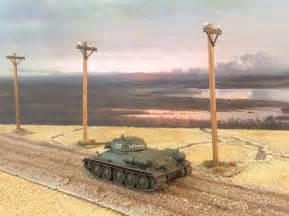pole: (195, 18, 247, 174)
